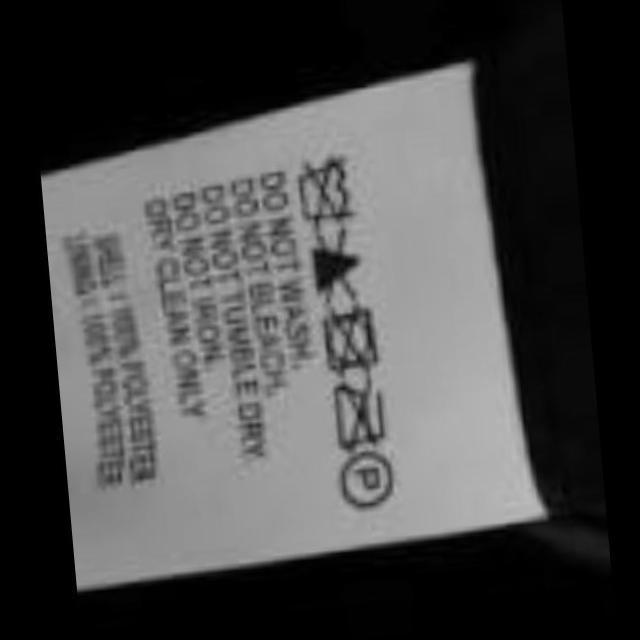DN_bleach: (300, 226, 369, 313)
DN_iron: (322, 375, 392, 463)
DN_tumble_dry: (316, 299, 386, 382)
DN_wash: (290, 147, 360, 239)
normal_dry_clean_solvents: (330, 444, 400, 514)
